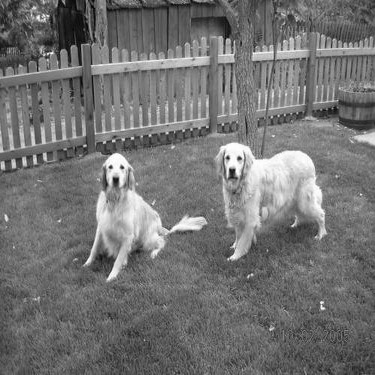dog: (72, 144, 216, 287), (203, 135, 329, 264)
